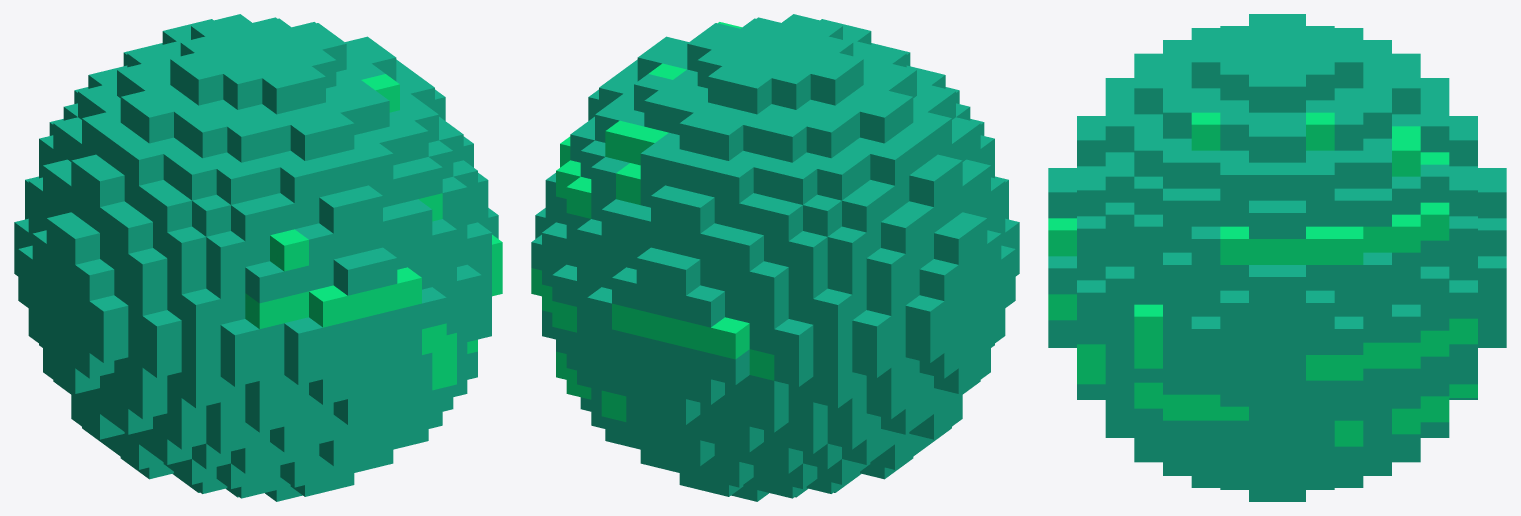
Rendered from planetas-14-verde2.obj.
3 renders of one model, left to right at view 1: azimuth 30°, elevation 25°; view 2: azimuth 150°, elevation 25°; view 3: azimuth 270°, elevation 25°, orthographic.
Bounding box in the file's own units: 1.6 × 1.6 × 1.6.
1 material, 1 textured.
